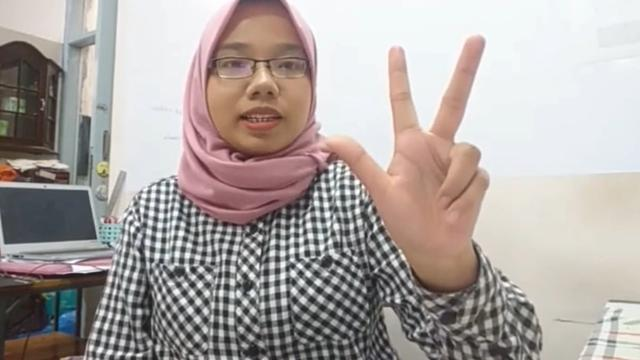K: (326, 34, 494, 260)
